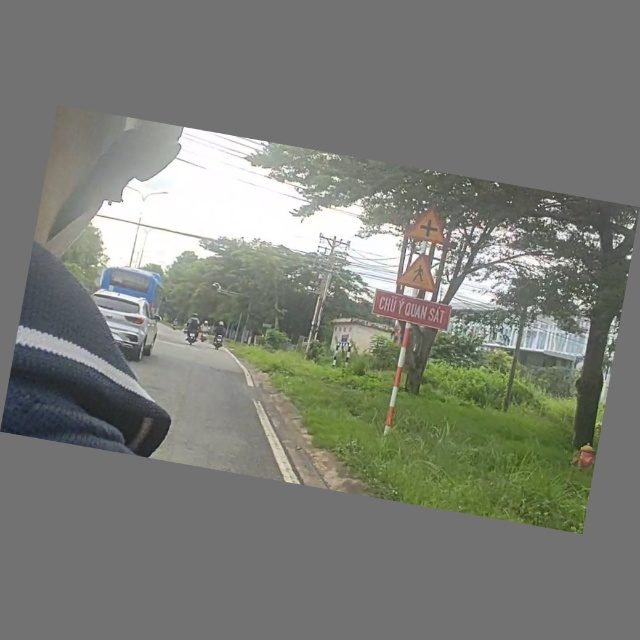W.205a: (403, 204, 454, 249)
W.224: (390, 248, 450, 295)
